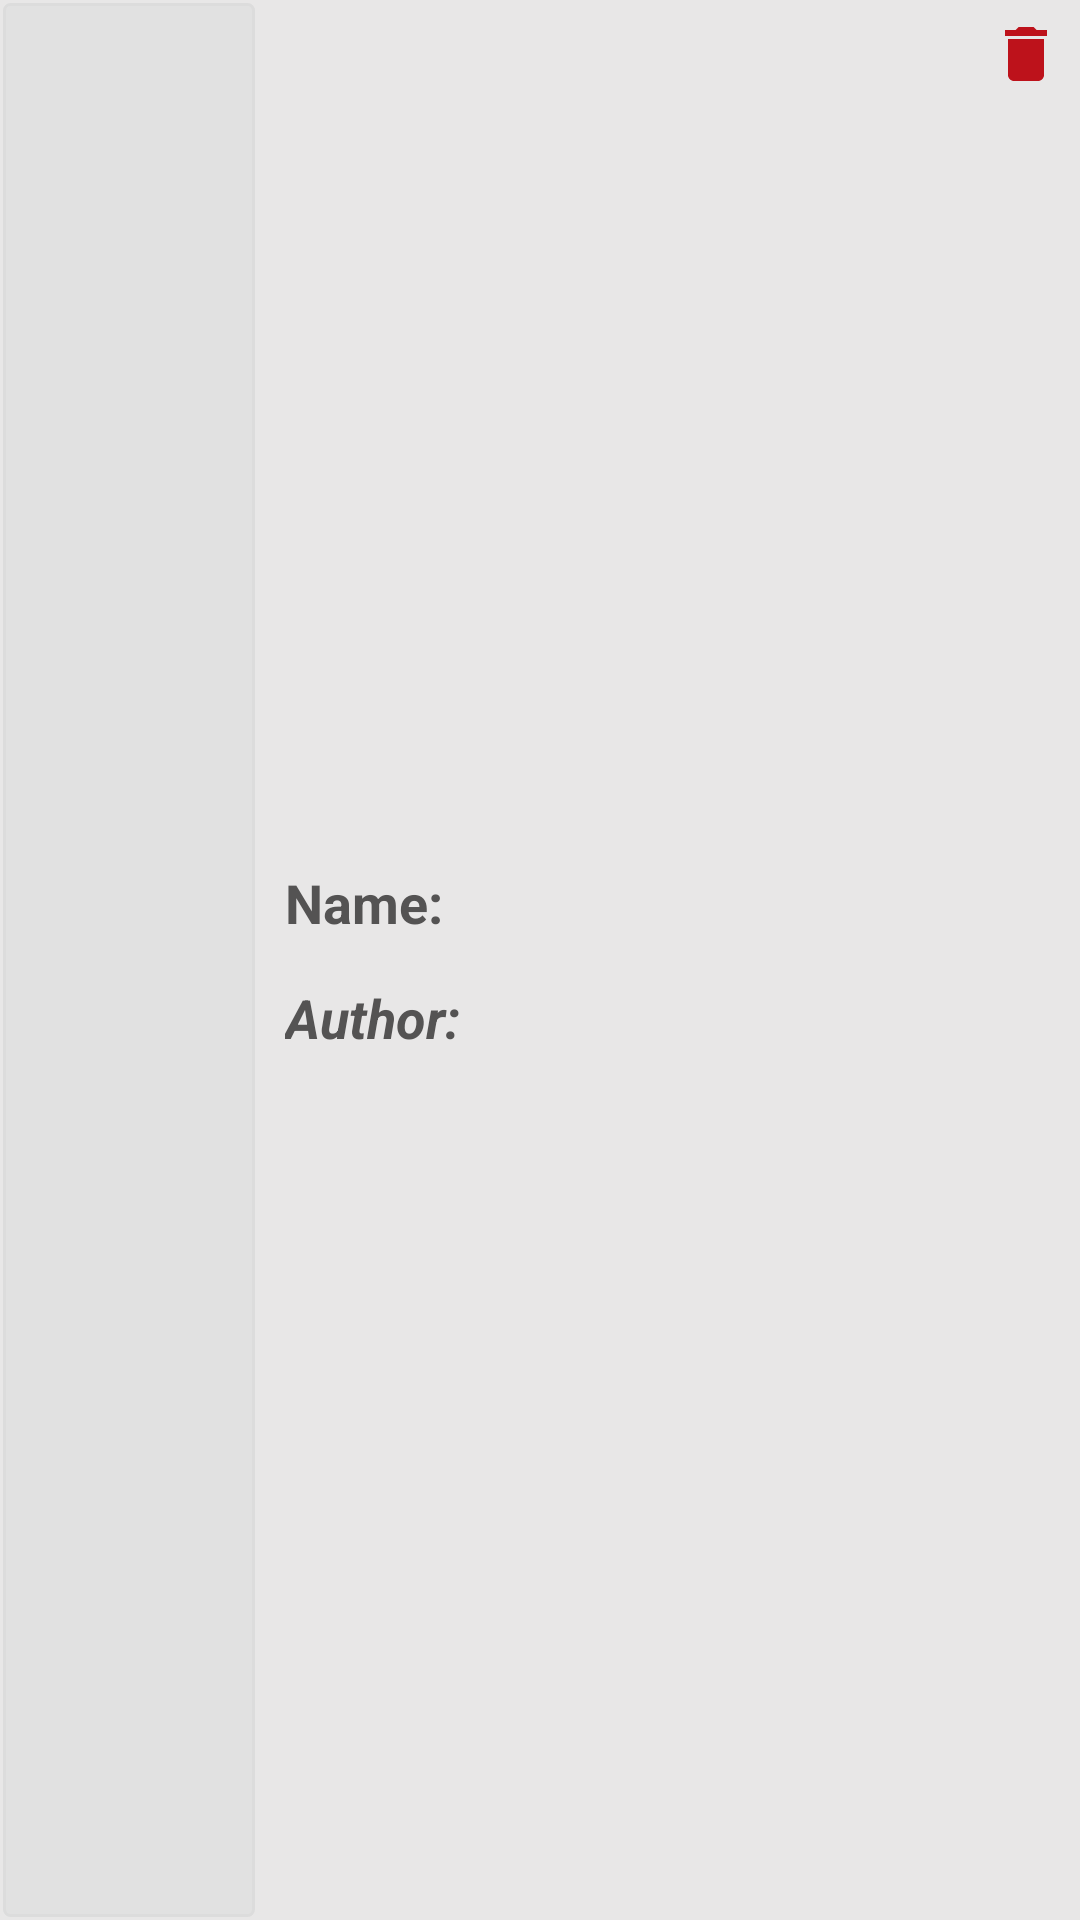

Point at icon controls on the screen. Image size 1080 × 1920, points as [x,y].
mybook delete: [1026,54]
